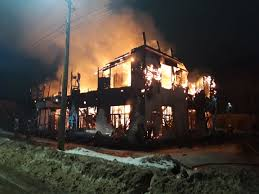fire: (45, 50, 217, 104)
